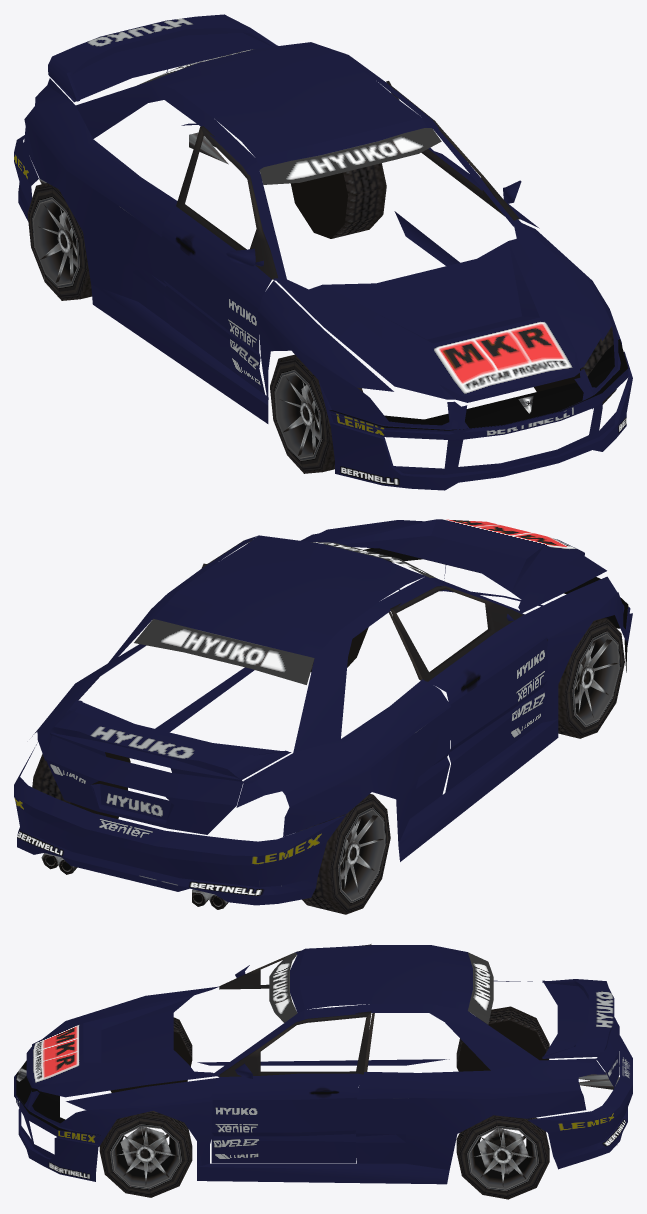
The model's file is car-CUPE_Car1.glb.
3 views of the same model, one above another, from view 1: azimuth 30°, elevation 25°; view 2: azimuth 150°, elevation 25°; view 3: azimuth 270°, elevation 25° (orthographic). The views are drawn at different scales.
Visible parts, largest first — view 1: CUPE_Car1; view 2: CUPE_Car1; view 3: CUPE_Car1.
Boxes of the visible parts, x1,y1,x2,y2 form: CUPE_Car1: [14, 14, 632, 490]; CUPE_Car1: [14, 519, 632, 914]; CUPE_Car1: [14, 944, 632, 1199].
Bounding box in the file's own units: 1.9 × 1.37 × 4.4.
Materials: 19 (19 with a texture image).
